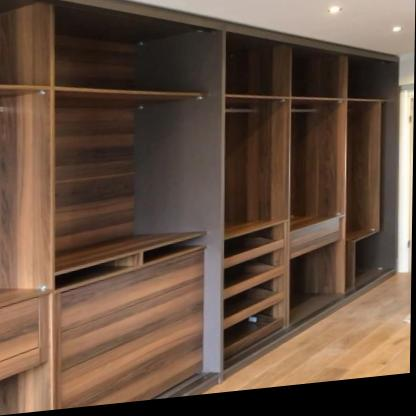Wooden floor: (201, 283, 412, 399)
